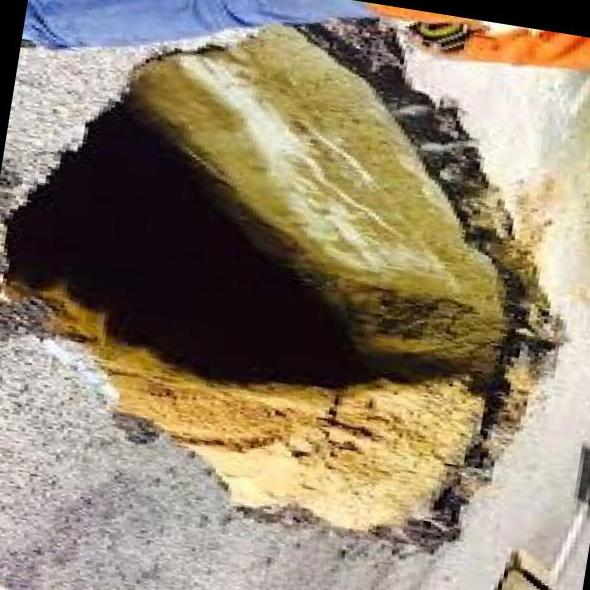pothole: (0, 15, 590, 590)
